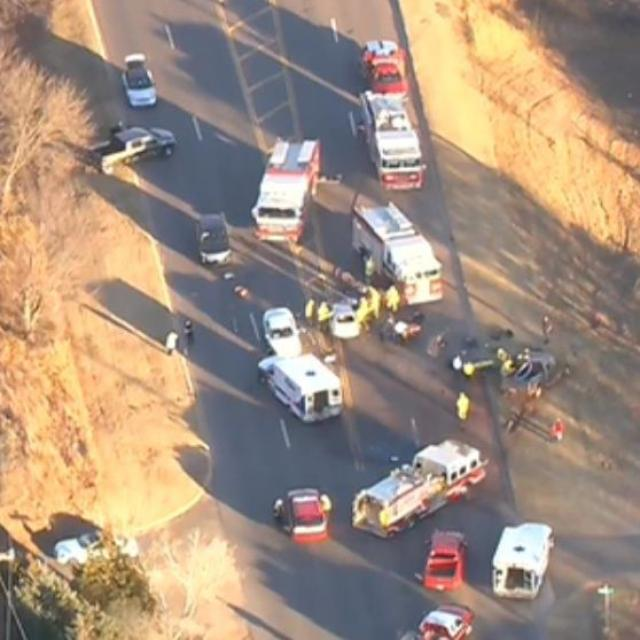traffic_incident: (249, 268, 427, 352), (438, 325, 574, 401)
